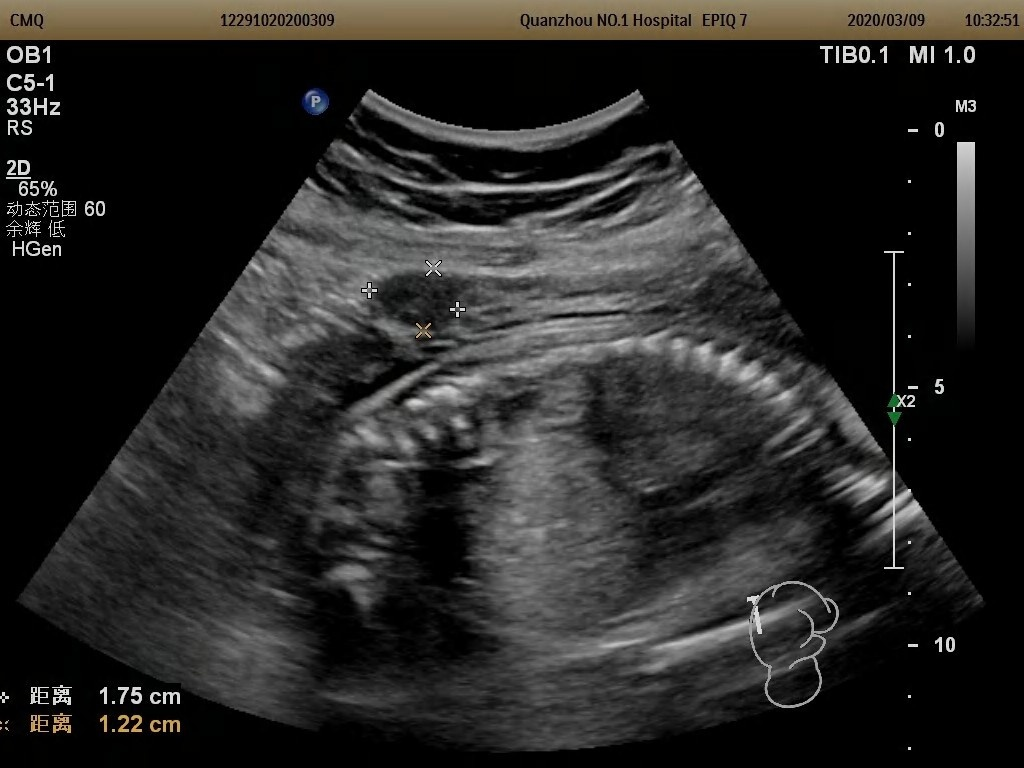肌瘤: (368, 269, 457, 331)
